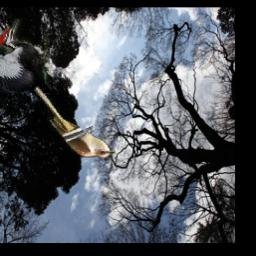Cuckoo: (34, 86, 116, 157)
Woodpecker: (0, 19, 51, 94)
